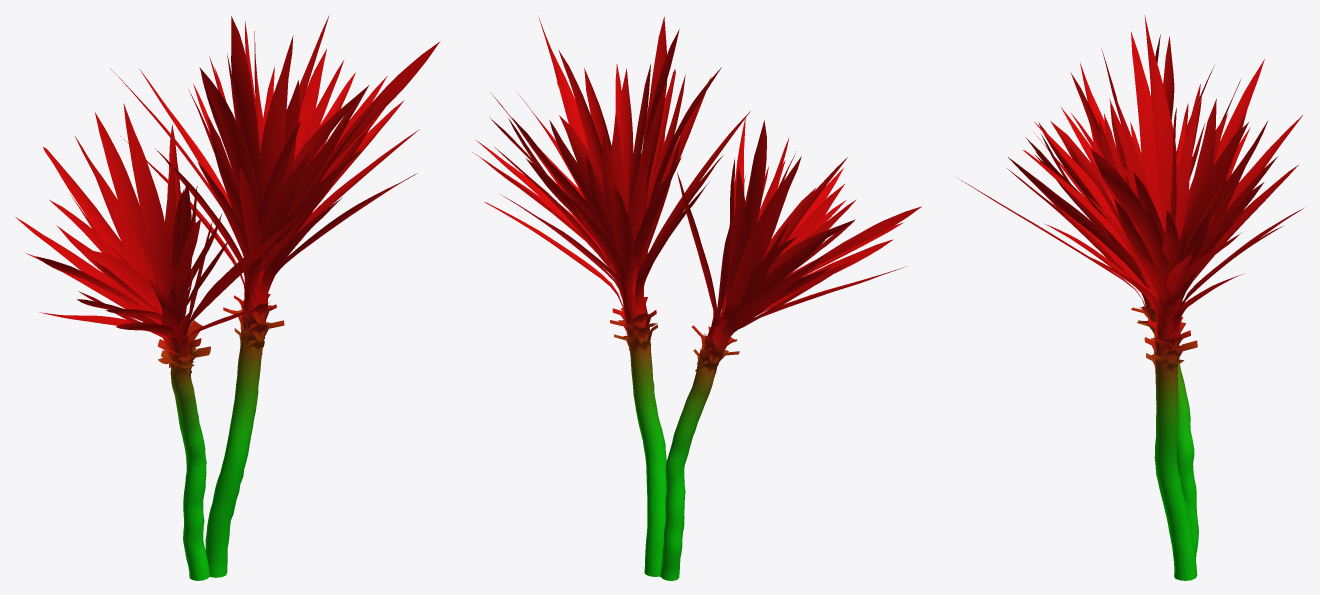
Rendered from Var7_LOD2.fbx.
3 renders of one model, left to right at view 1: azimuth 30°, elevation 25°; view 2: azimuth 150°, elevation 25°; view 3: azimuth 270°, elevation 25°, orthographic. The views are drawn at different scales.
Visible parts, largest first — view 1: _anyi_Var7_LOD2; view 2: _anyi_Var7_LOD2; view 3: _anyi_Var7_LOD2.
Part boxes in pixels (x1,y1,x2,y2): _anyi_Var7_LOD2: (15,15,440,580); _anyi_Var7_LOD2: (472,17,921,580); _anyi_Var7_LOD2: (958,15,1303,580).
Bounding box in the file's own units: 72.28 × 93 × 53.26.
